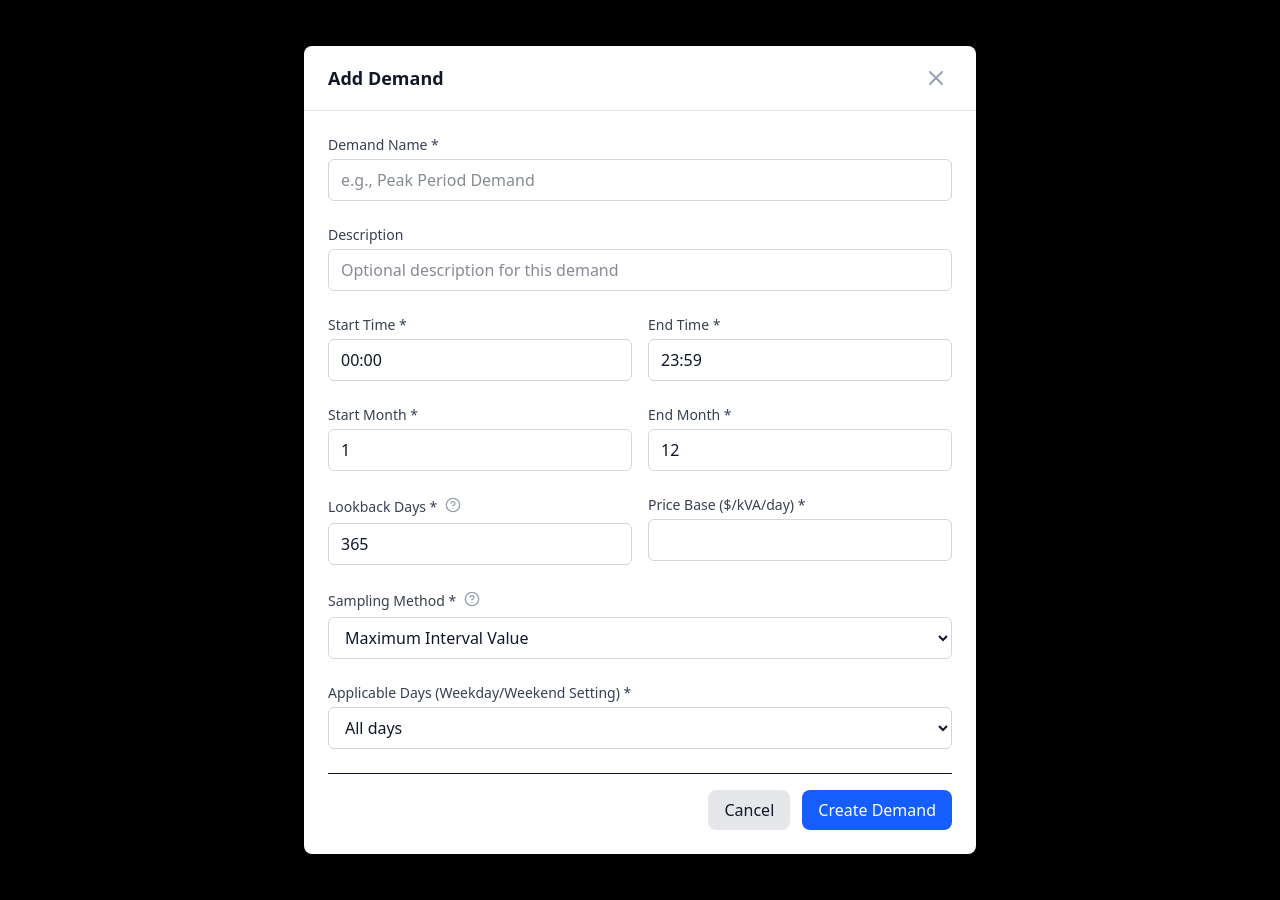
Test: DemandConfigModal › shows validation error if fields are invalid
This screenshot has width=1280, height=900.
# Leave fields empty and try to submit
Step 1. Click the button "Create Demand" → [877, 810], box 802,790 -> 952,830
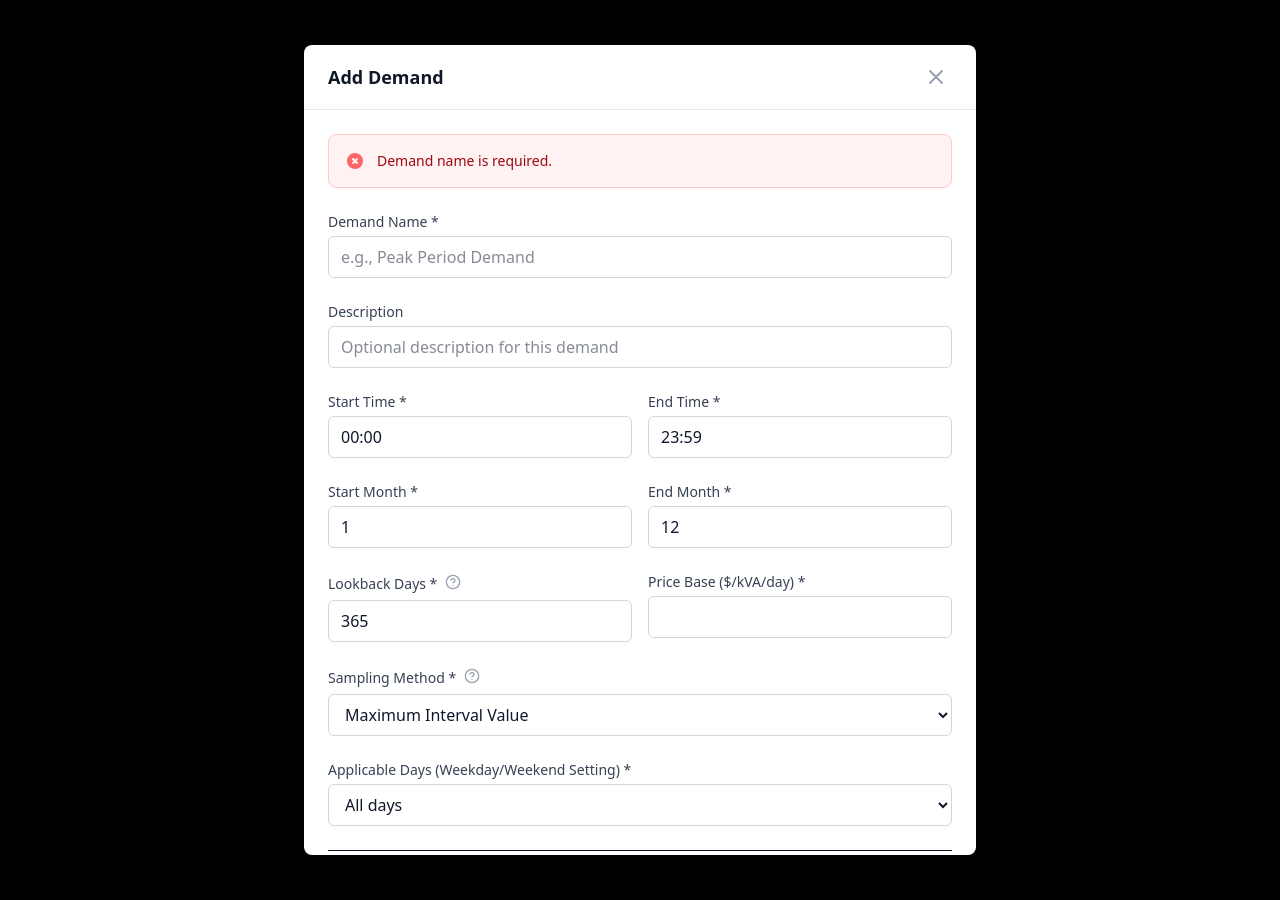
Expected: the text "Demand name is required." is shown, 377,151 -> 552,170
